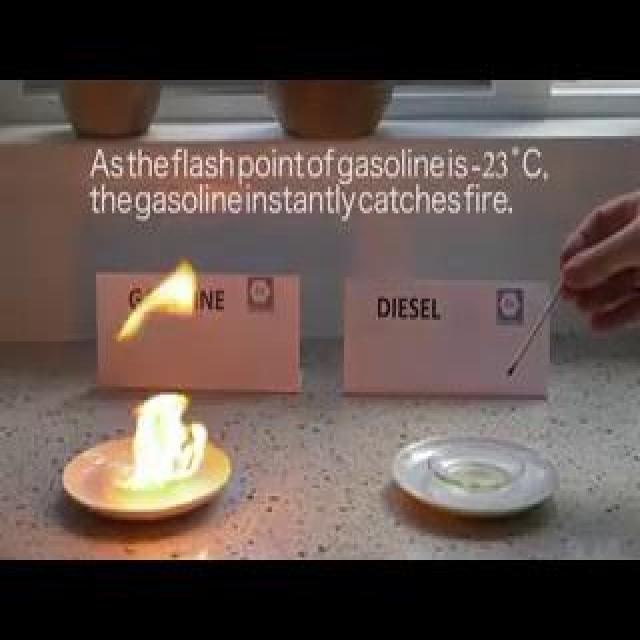Fire: (117, 304, 237, 499)
